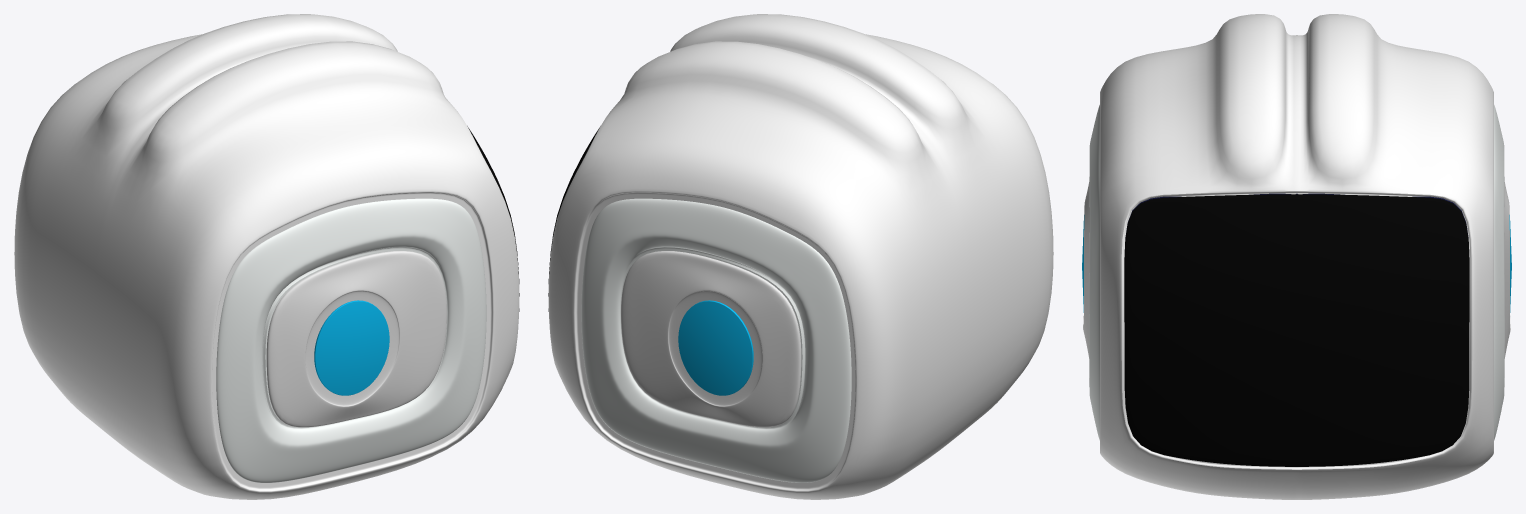
File: lida.glb
The picture shows the model from 3 angles, left to right: view 1: azimuth 30°, elevation 25°; view 2: azimuth 150°, elevation 25°; view 3: azimuth 270°, elevation 25°; orthographic projection. The views are drawn at different scales.
Visible parts, largest first — view 1: 脑袋, 耳廓, 耳朵, 耳外; view 2: 脑袋, 耳廓, 耳朵, 耳外; view 3: 外面罩, 脑袋, 耳廓, 耳朵.
Part boxes in pixels (left/top/right/bottom): 脑袋: left=14, top=14, right=519, bottom=499; 耳廓: left=216, top=198, right=486, bottom=482; 耳朵: left=266, top=251, right=446, bottom=427; 耳外: left=314, top=300, right=389, bottom=395; 脑袋: left=548, top=14, right=1053, bottom=499; 耳廓: left=581, top=198, right=851, bottom=482; 耳朵: left=621, top=251, right=801, bottom=427; 耳外: left=678, top=300, right=753, bottom=395; 外面罩: left=1124, top=194, right=1469, bottom=466; 脑袋: left=1100, top=14, right=1493, bottom=499; 耳廓: left=1089, top=105, right=1504, bottom=440; 耳朵: left=1083, top=180, right=1510, bottom=358.
Size of the model in its own units: 206 by 219 by 201.
